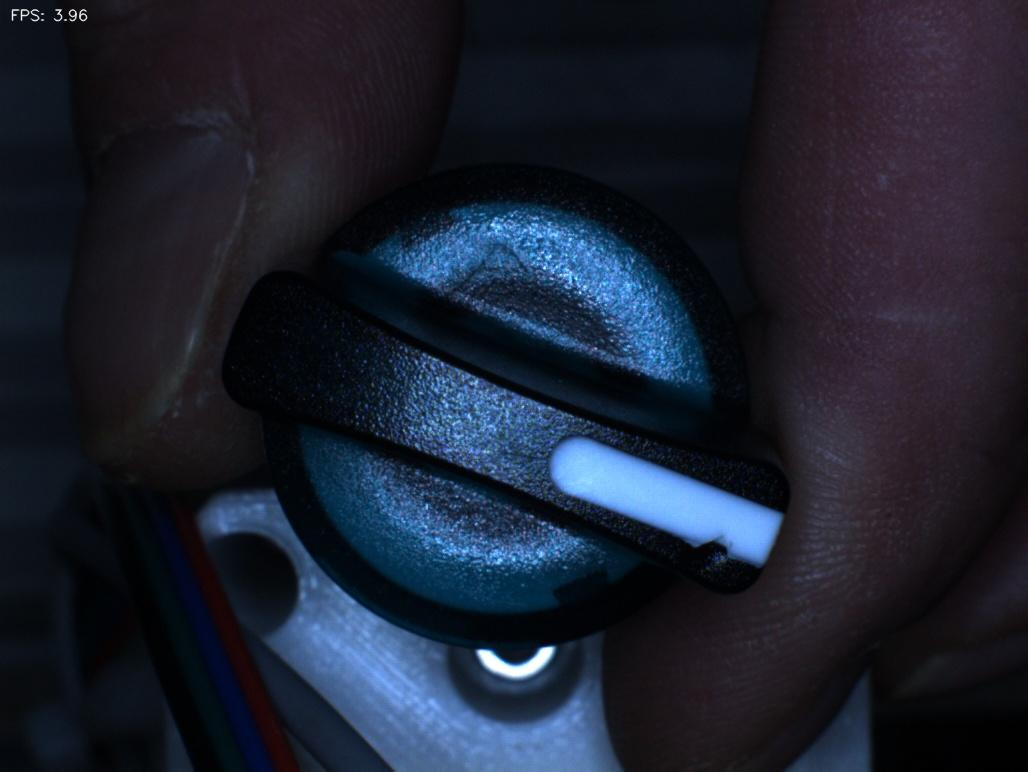Choc: (677, 520, 758, 606)
